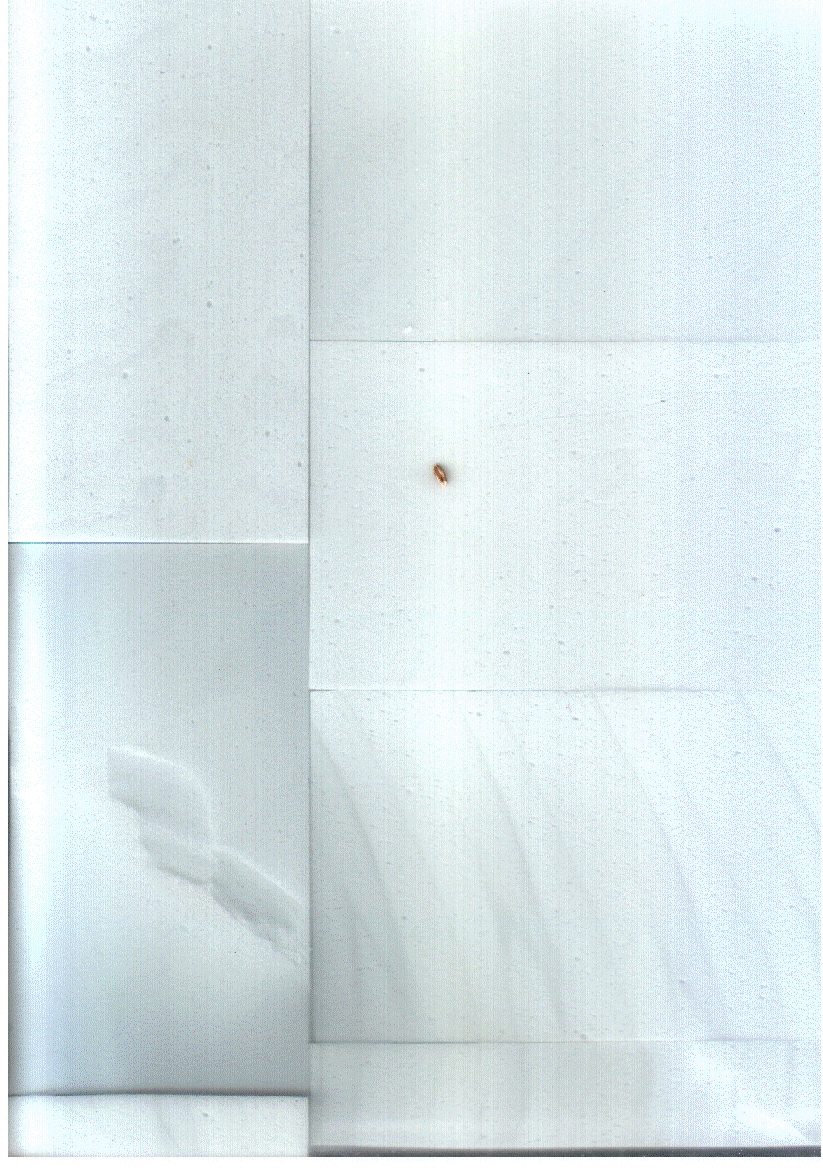grains: (423, 445, 465, 504)
